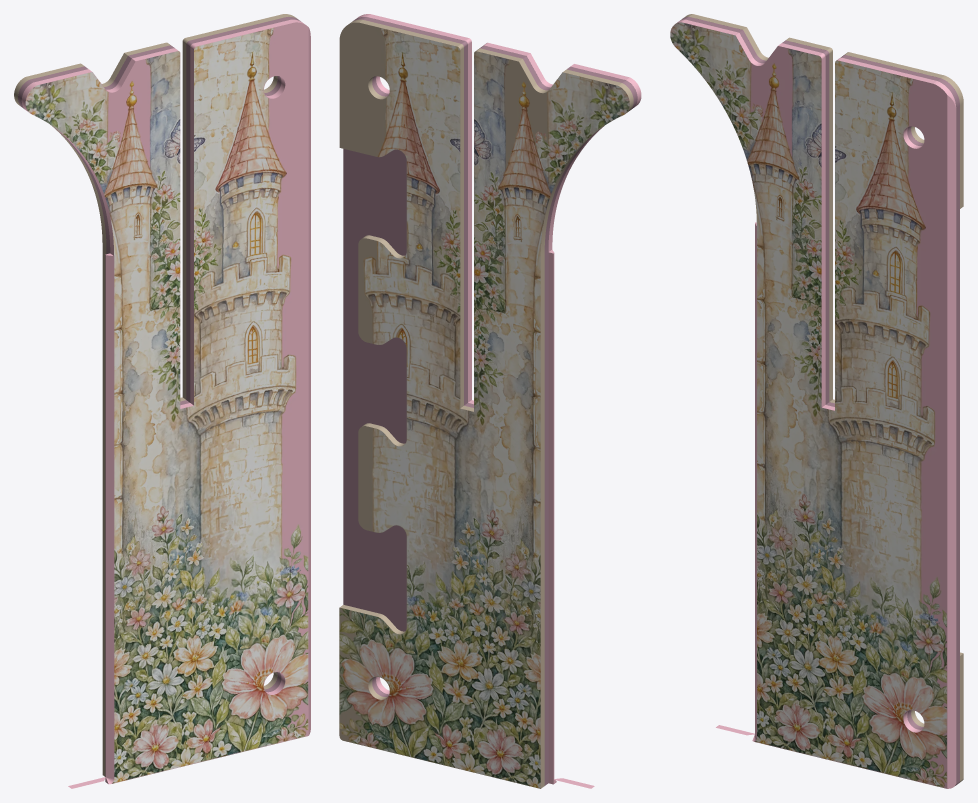
3 views of the same model, side by side, from view 1: azimuth 30°, elevation 25°; view 2: azimuth 150°, elevation 25°; view 3: azimuth 330°, elevation 25° (orthographic). The views are drawn at different scales.
Parts seen in each view (by area): view 1: p005; view 2: p005; view 3: p005.
Boxes of the visible parts, bbox=[...] form: p005: bbox=[14, 14, 310, 788]; p005: bbox=[339, 14, 641, 788]; p005: bbox=[670, 14, 963, 788].
Size of the model in its own units: 389 by 925 by 27.
Materials: 5 (2 with a texture image).
